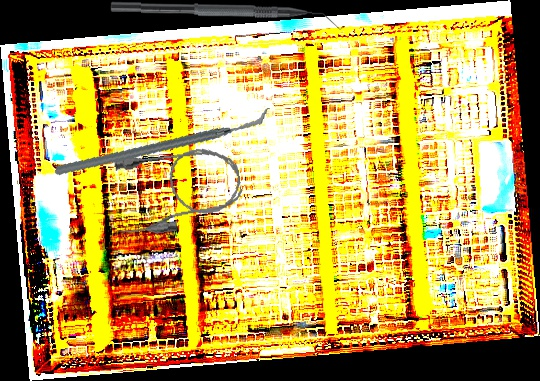Cannula: (106, 141, 247, 240)
Chopper: (54, 73, 271, 211), (108, 0, 345, 33)
